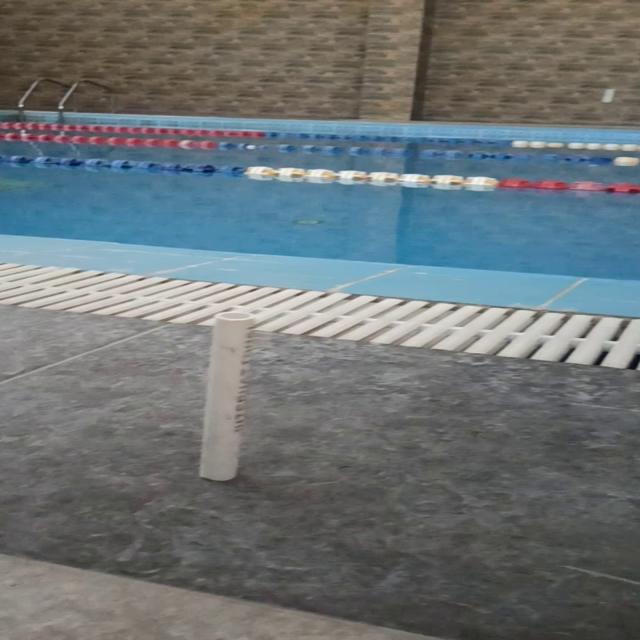Cube: (197, 310, 255, 482)
